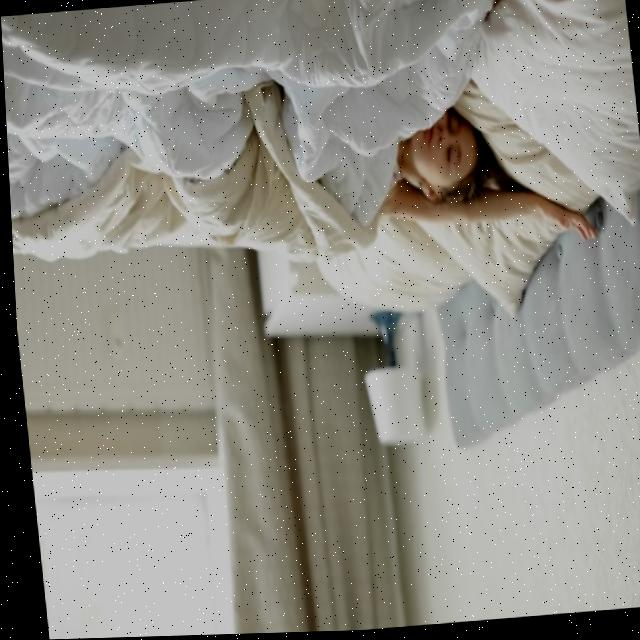sleeping-person: (1, 9, 610, 315)
